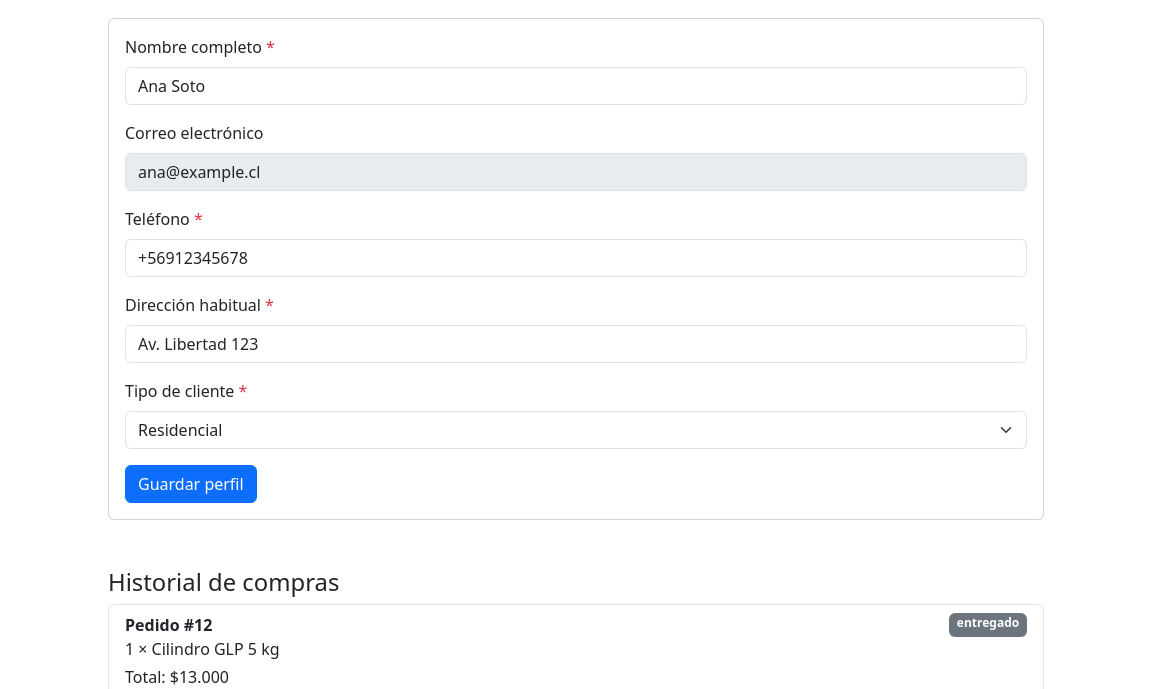
Test: Perfil › carga y guarda los datos del cliente y muestra su historial de compras
The image size is (1152, 689).
(page scrolled)
expect the field labelled "Correo electrónico" holds "ana@example.cl": met, box x1=125 y1=152 x2=1027 y2=190
expect the heading "Historial de compras" is shown: met, box x1=108 y1=566 x2=339 y2=598
Step 1. Replace the text in the field labelled "Dirección habitual *" with "Los Aromos 45" → (576, 344), box x1=125 y1=324 x2=1027 y2=362
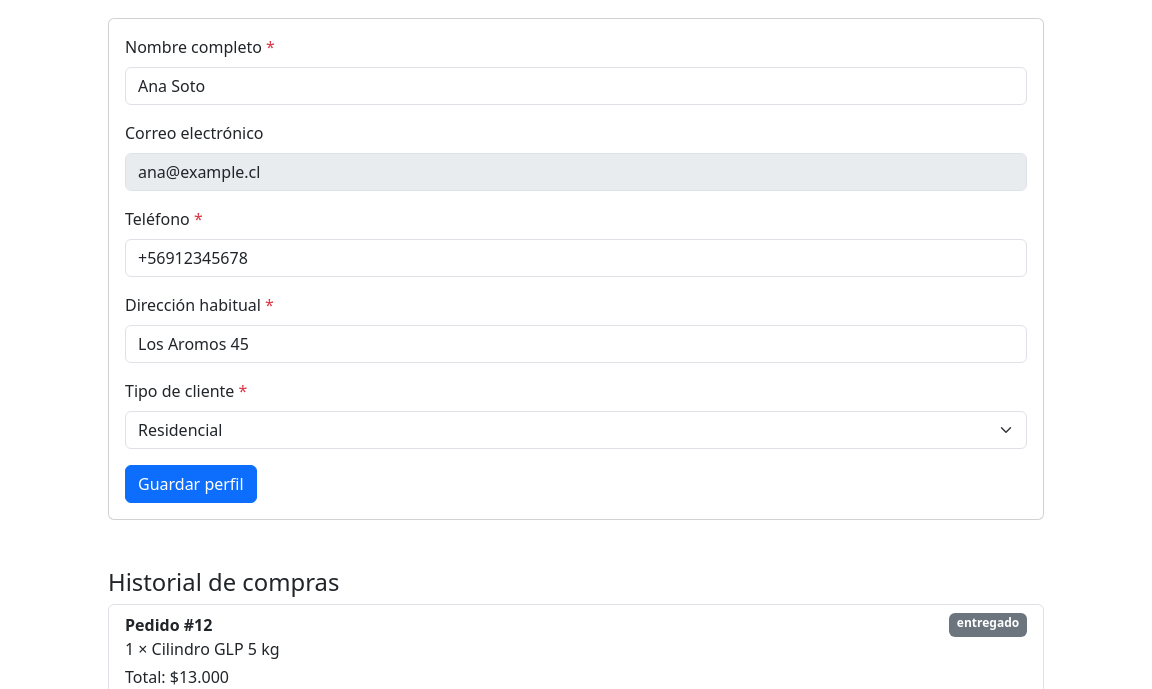
Step 2. Click the button "Guardar perfil" → (191, 484), box x1=125 y1=464 x2=257 y2=502
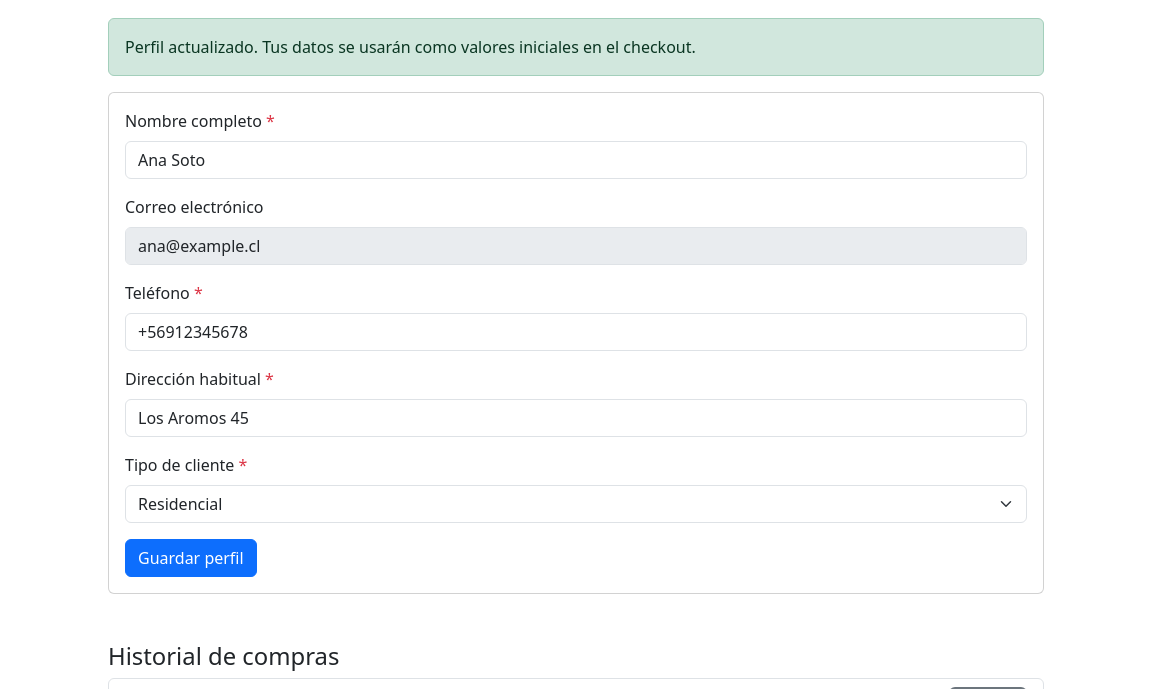
expect the message shows "Perfil actualizado": met, box x1=125 y1=36 x2=696 y2=58
